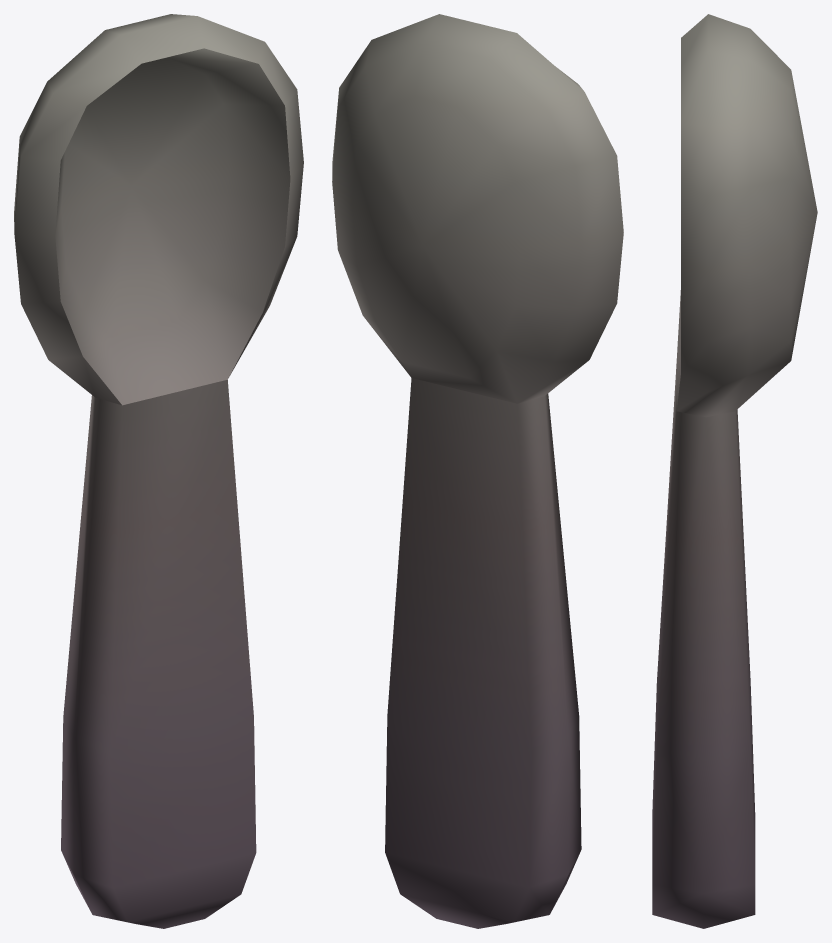
The model's file is Spoon_Small_01.glb.
3 renders of one model, left to right at view 1: azimuth 30°, elevation 25°; view 2: azimuth 150°, elevation 25°; view 3: azimuth 270°, elevation 25°, orthographic.
Visible parts, largest first — view 1: Spoon_Small_01; view 2: Spoon_Small_01; view 3: Spoon_Small_01.
Boxes of the visible parts, x1,y1,x2,y2 form: Spoon_Small_01: [14, 14, 303, 928]; Spoon_Small_01: [332, 14, 623, 928]; Spoon_Small_01: [652, 14, 817, 928].
Size of the model in its own units: 0.1185 by 0.3482 by 0.059.
Materials: 1 (1 with a texture image).
